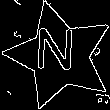N_S: (37, 30, 82, 82)
